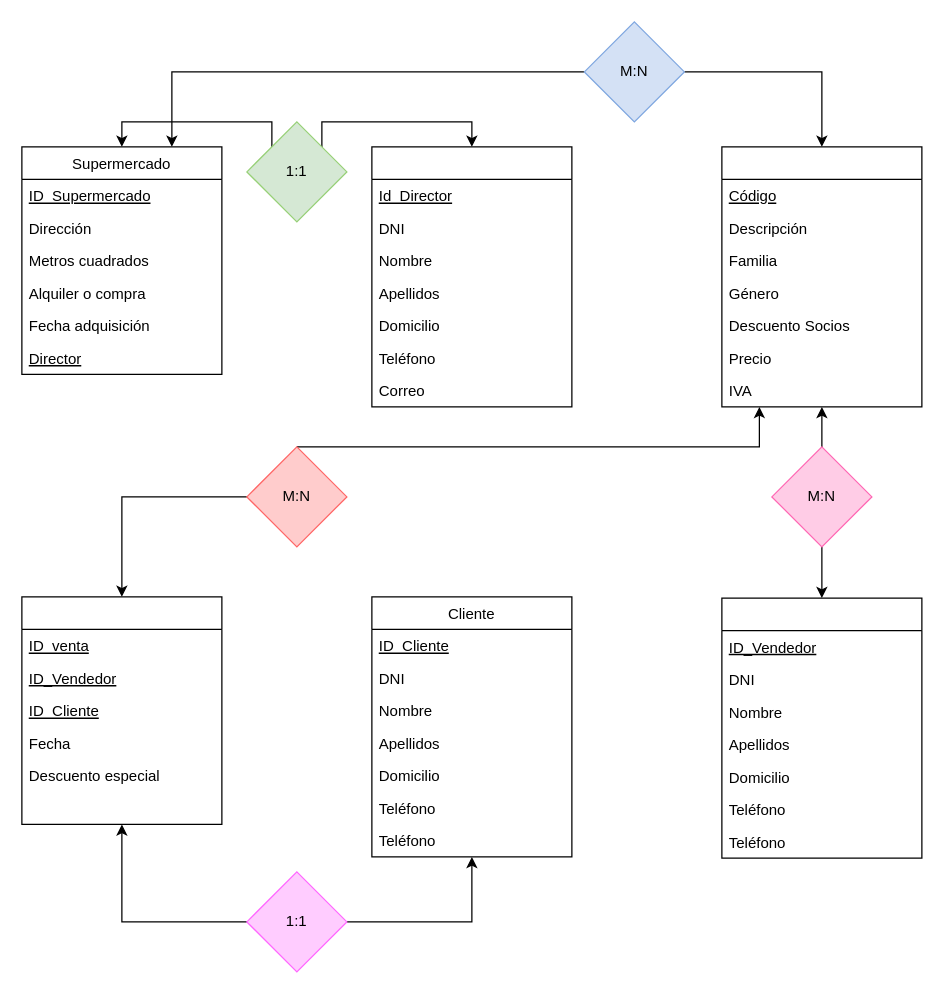
This 944x994 diagram has some shape labels left out. Here are the shapes that lost their labels. From the top down, the box of each, then its label:
(371, 146, 572, 407): Directores
(721, 146, 922, 407): Productos
(21, 596, 222, 824): Ventas
(721, 597, 922, 858): Vendedores
